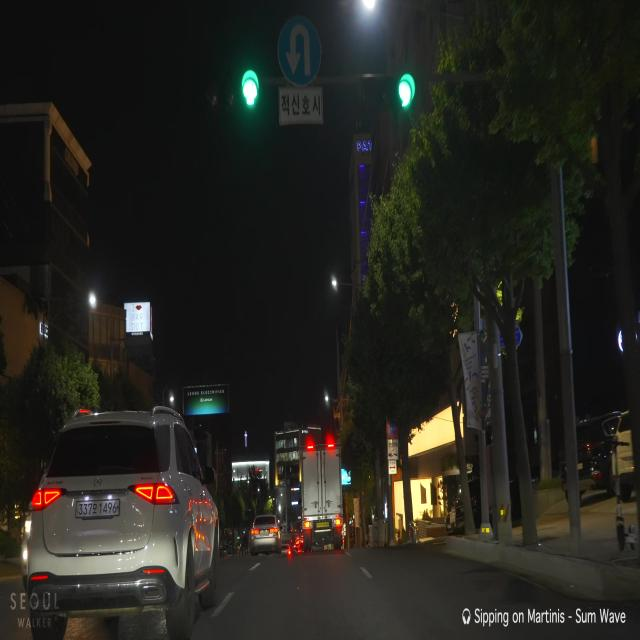Green Light: (240, 67, 260, 109), (394, 71, 416, 109)
